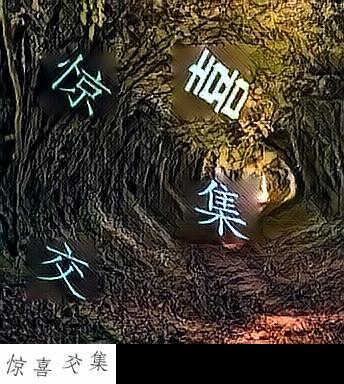character: (179, 46, 250, 121), (187, 178, 254, 245), (49, 52, 112, 118), (33, 239, 94, 302)
